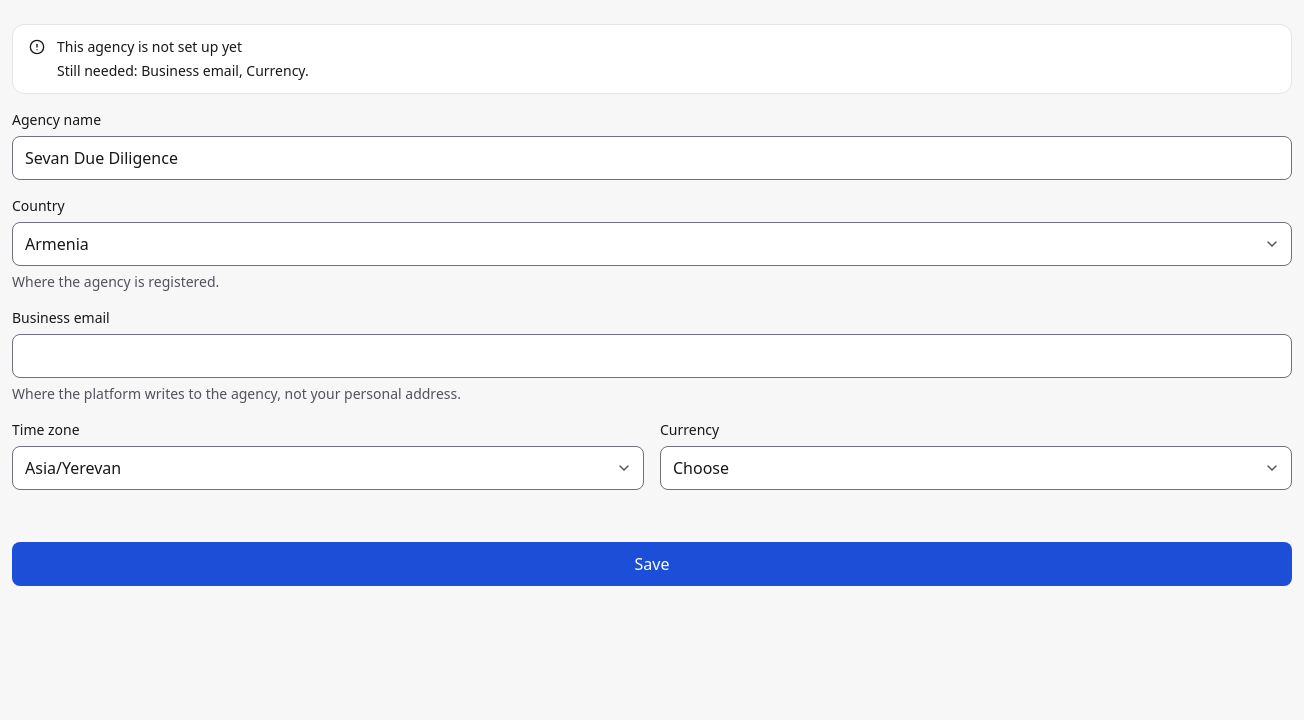
Test: an agency’s details (T-150) › the owner’s form › sends only what changed, with the version read, and says the agency is ready
Type "desk@sevan.test" into the field labelled "Business email" at (652, 356), box [12,334,1292,378]
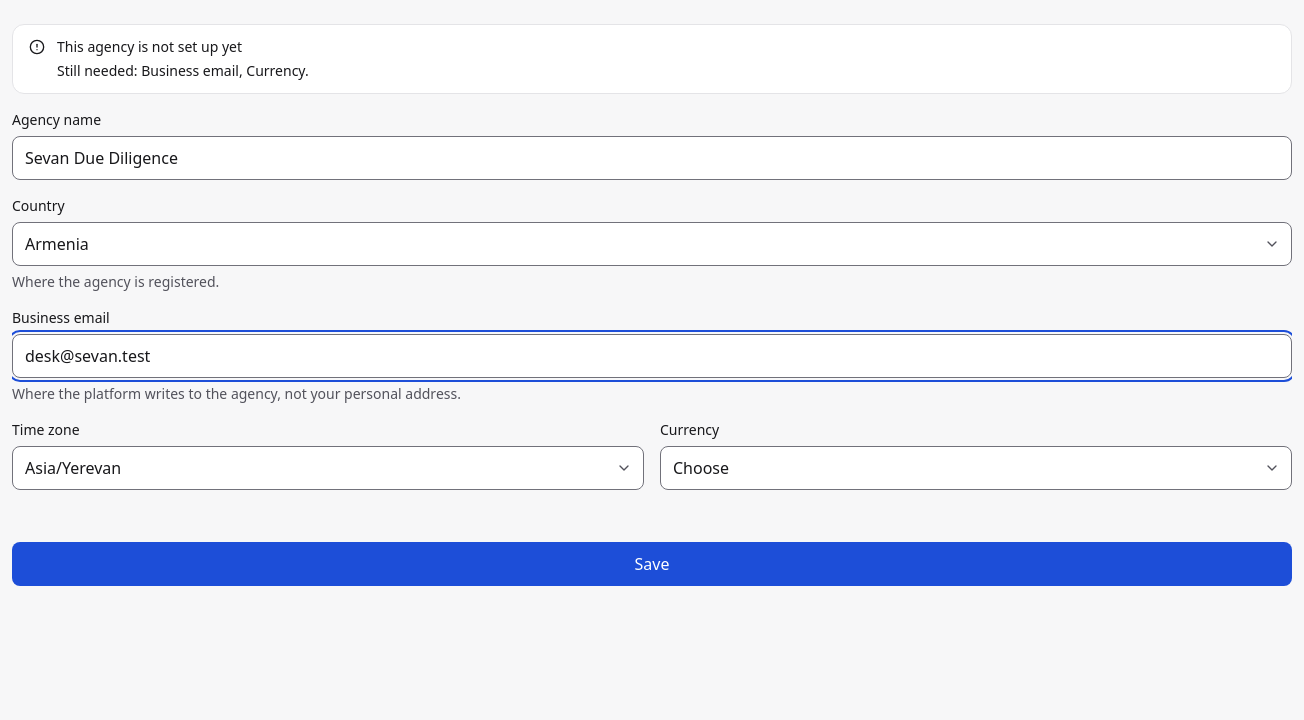
Select "USD" in the dropdown labelled "Currency" at (976, 468), box [660,446,1292,490]
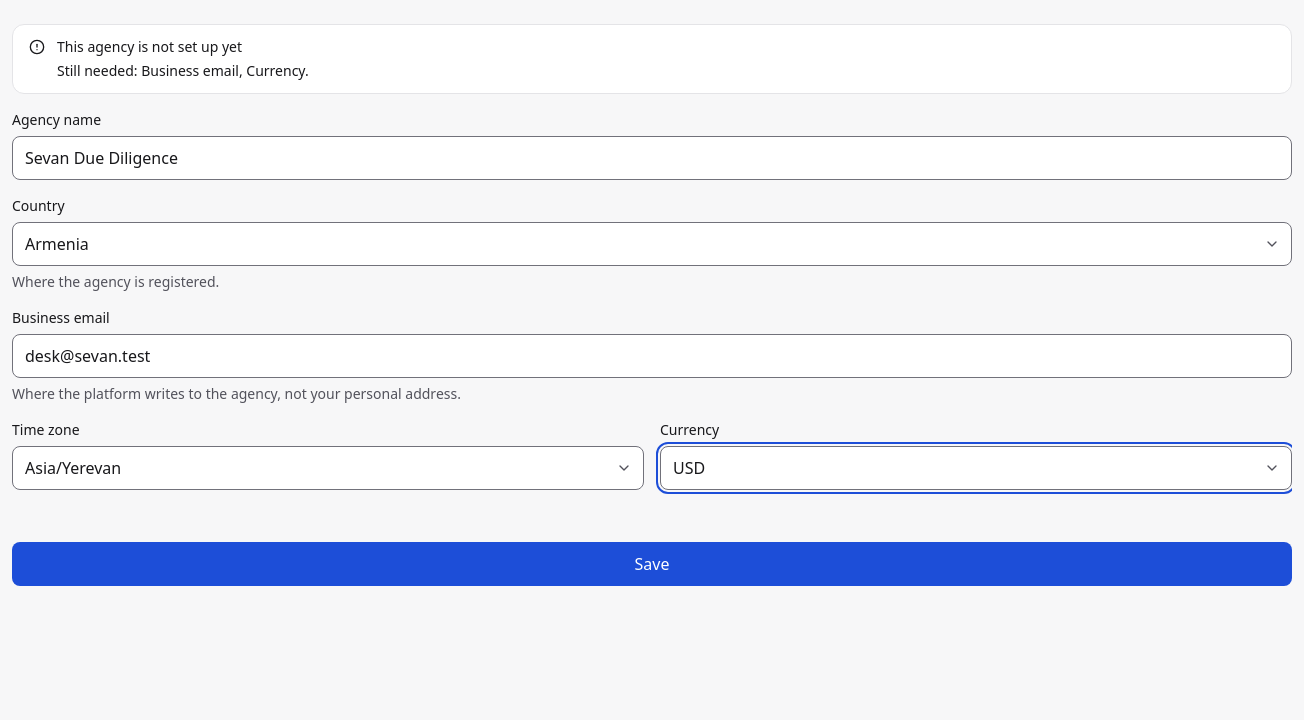
Click the button "Save" at (652, 564), box [12,542,1292,586]
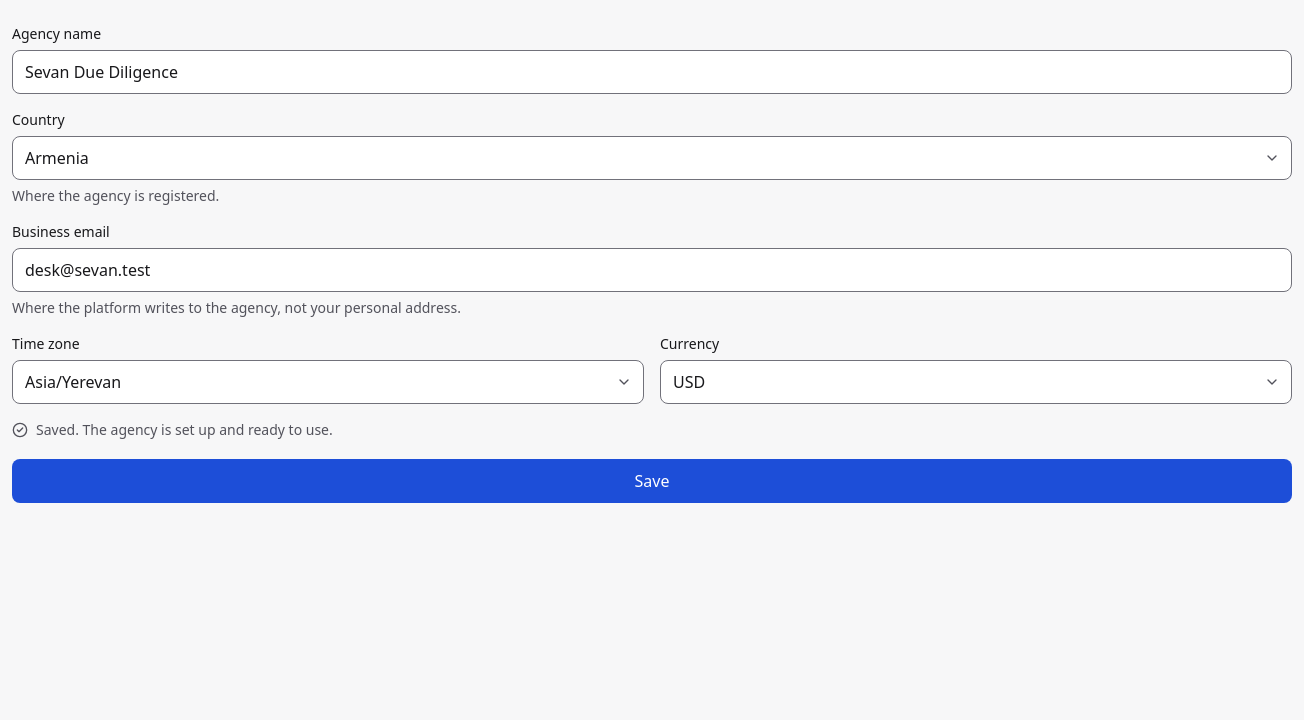
Now the text "Saved. The agency is set up and ready to use." is shown, box [12,420,333,440]
Now the text "This agency is not set up yet" is gone
